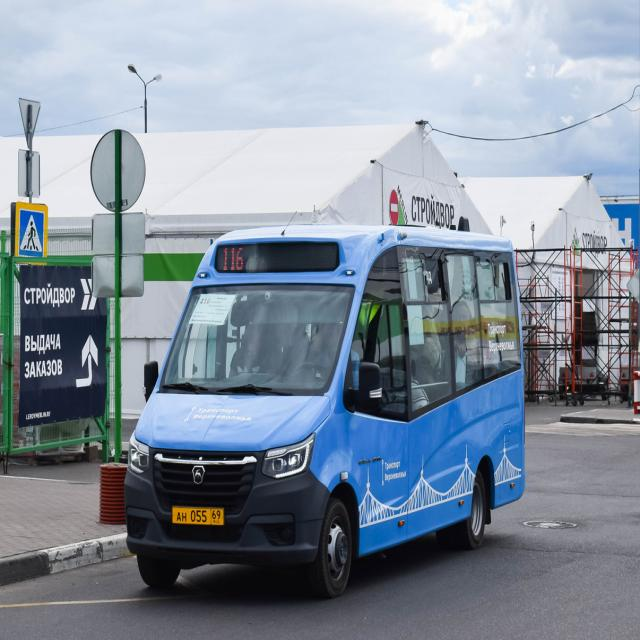number-of-bus: (222, 247, 246, 272), (201, 298, 213, 306)
